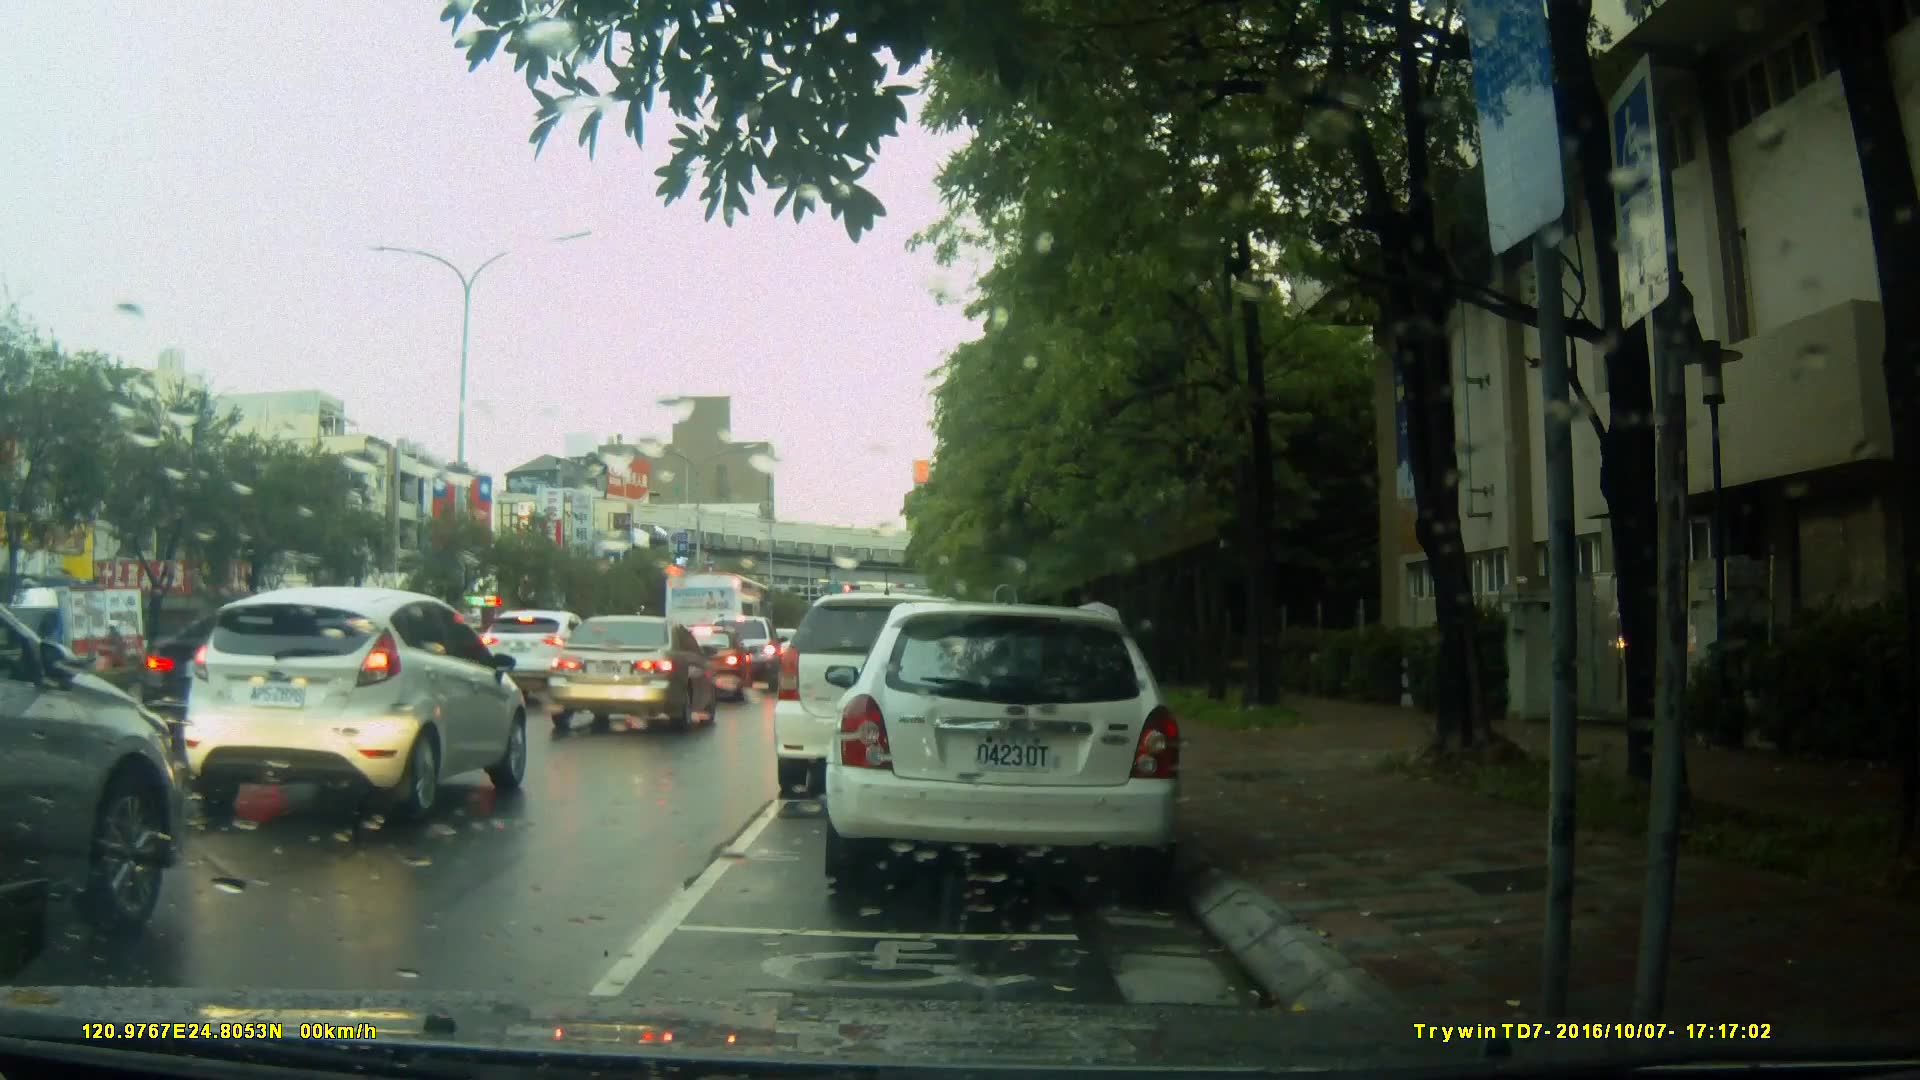vehicle: (835, 593, 1193, 898), (173, 585, 530, 824), (1, 547, 186, 986), (775, 589, 1026, 785), (549, 615, 723, 735), (1, 585, 152, 698), (663, 574, 779, 690), (477, 608, 596, 702), (665, 625, 753, 705)
